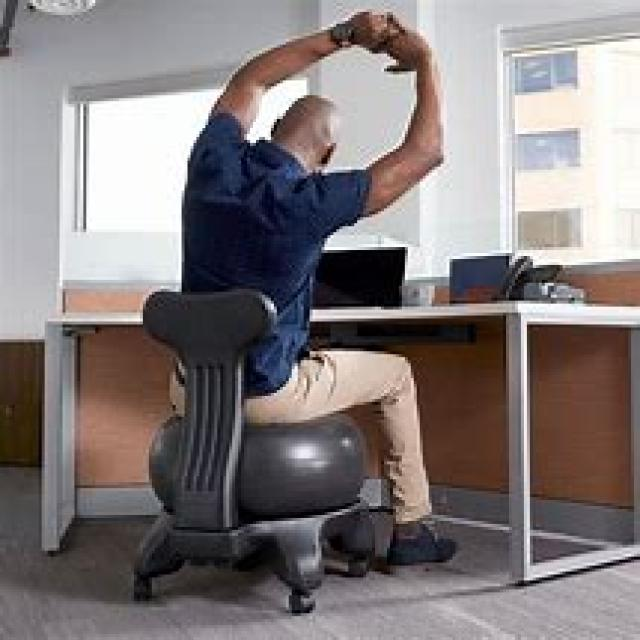chair: (131, 286, 375, 613)
